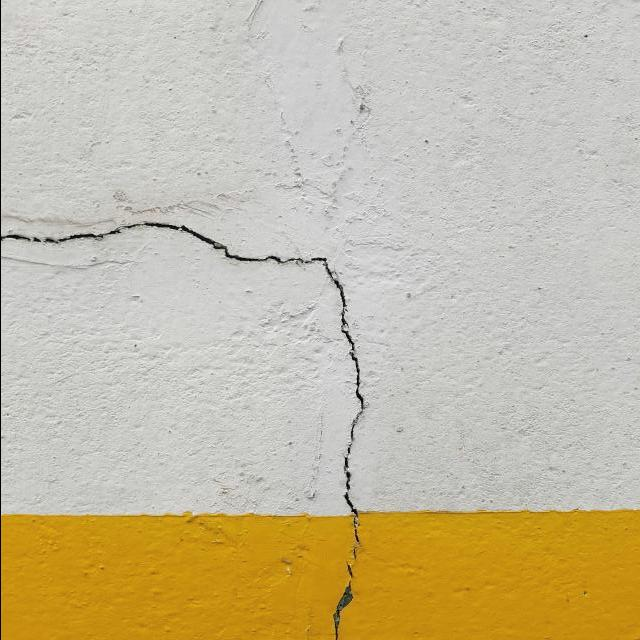SurfaceCrack: (2, 193, 396, 508), (281, 514, 393, 640)
